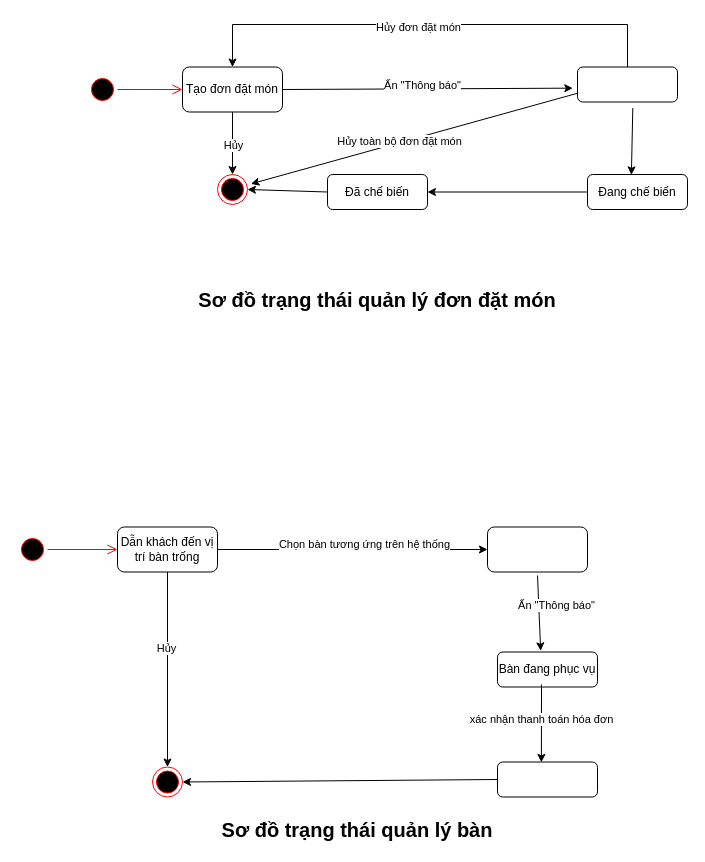
This 705x862 diagram has some shape labels left out. The shapes that lost their labels are listed below. From the top down, each one's centre as x and y in pixels, then its label:
the point at 627,84: Chưa chế biến
the point at 537,549: Chọn món
the point at 547,779: Bàn trống
